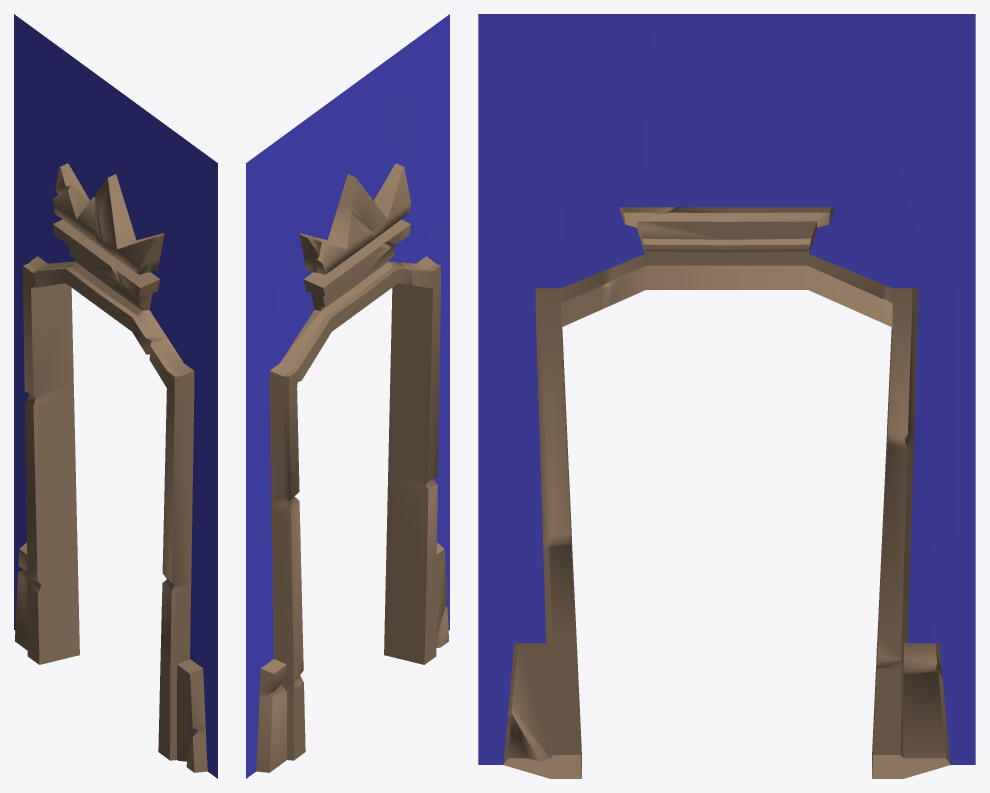
File: SM_SalleSilence_EncadrementPorte_low.fbx
3 views of the same model, side by side, from view 1: azimuth 30°, elevation 25°; view 2: azimuth 150°, elevation 25°; view 3: azimuth 270°, elevation 25° (orthographic). The views are drawn at different scales.
Visible parts, largest first — view 1: SM_SalleSilence_EncadrementPorte_low; view 2: SM_SalleSilence_EncadrementPorte_low; view 3: SM_SalleSilence_EncadrementPorte_low.
Part boxes in pixels (x1,y1,x2,y2): SM_SalleSilence_EncadrementPorte_low: (14,14,217,778); SM_SalleSilence_EncadrementPorte_low: (246,14,449,778); SM_SalleSilence_EncadrementPorte_low: (478,14,975,778).
Bounding box in the file's own units: 72.81 × 1000 × 600.
